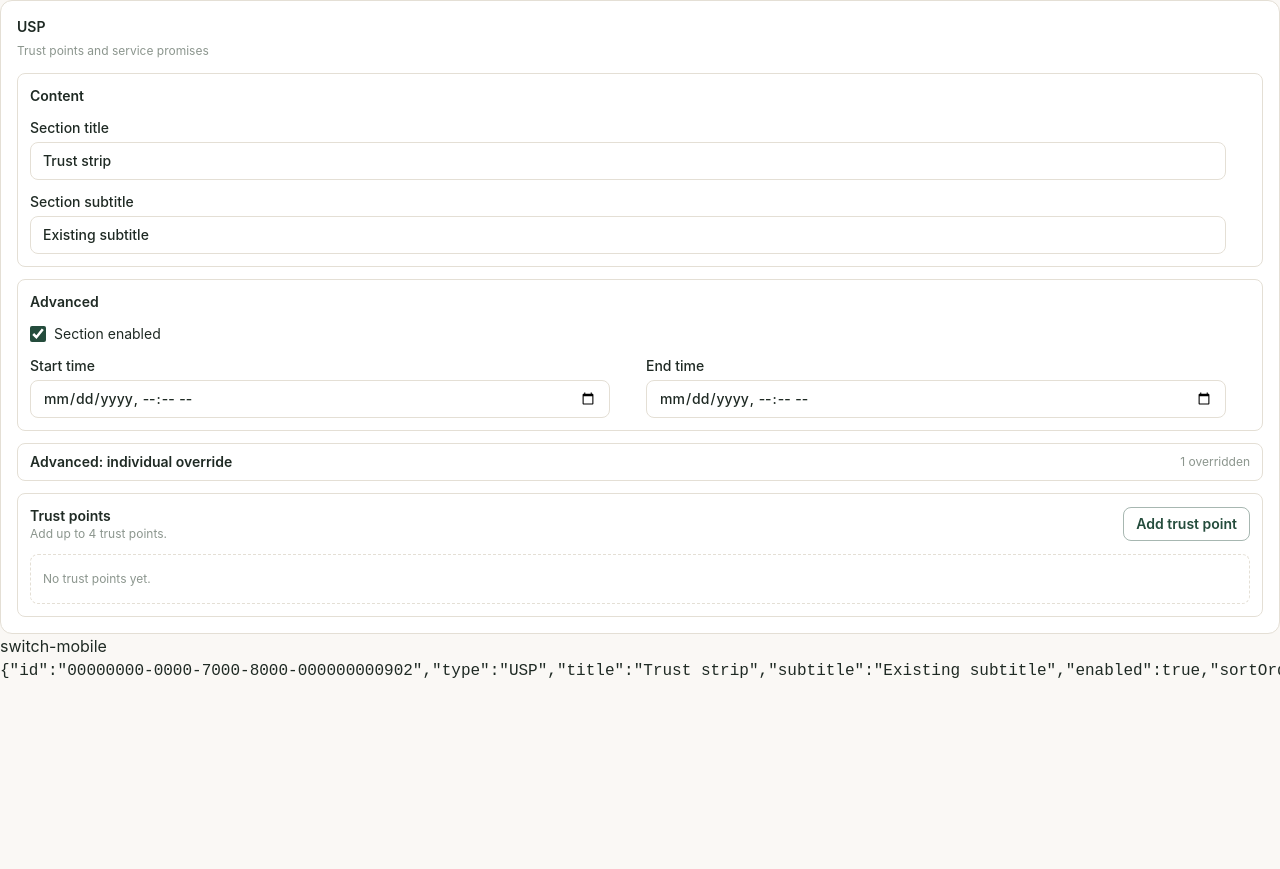
Scenario: SectionEditorPanel › routes a selected typed section into the shared editor shell
Check: the text "Trust points and service promises" is shown, box [17, 43, 209, 58]
Check: the heading "Content" is shown, box [30, 86, 84, 104]
Click the button "Advanced: individual override 1 overridden" at point(131, 461), box [17, 442, 1263, 480]
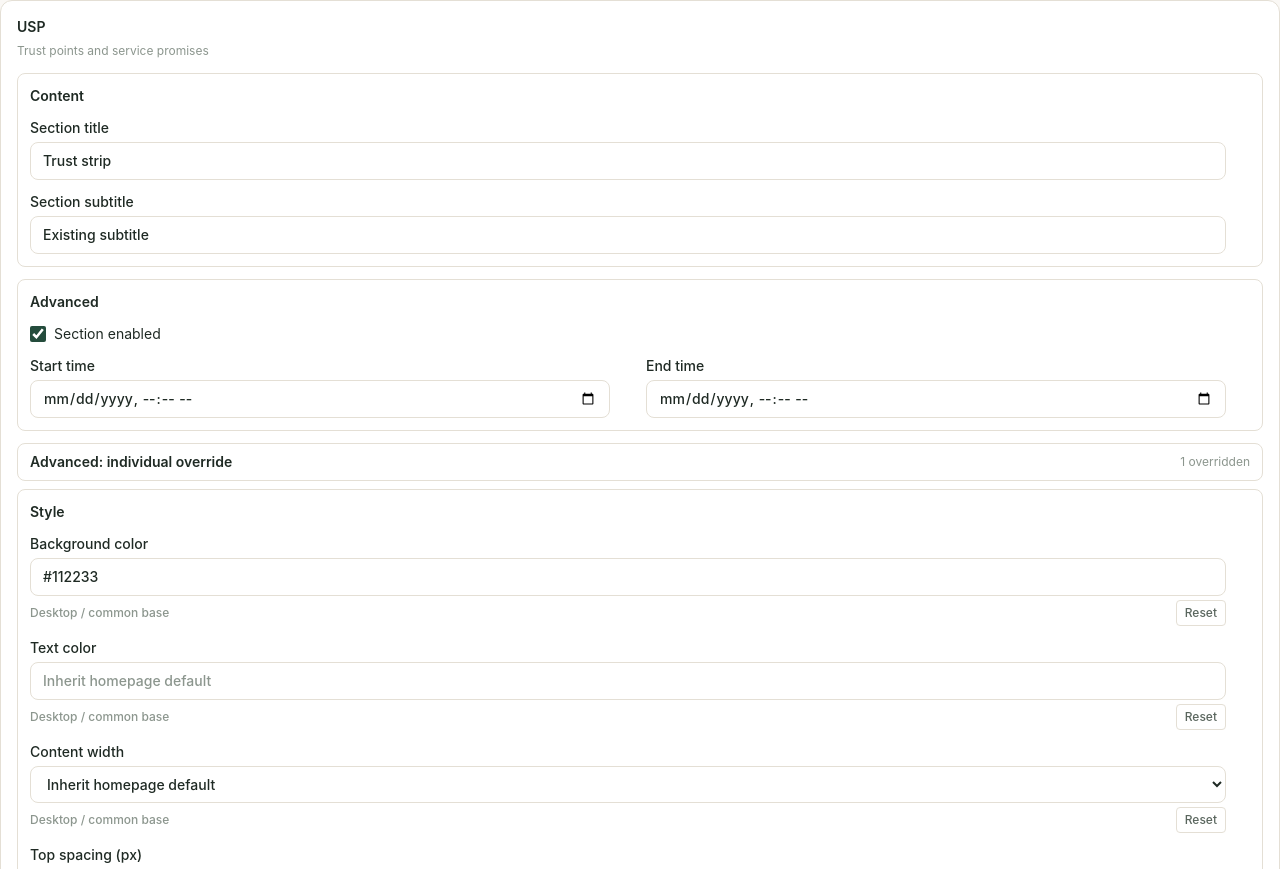
Check: the heading "Style" is shown, box [30, 502, 65, 520]
